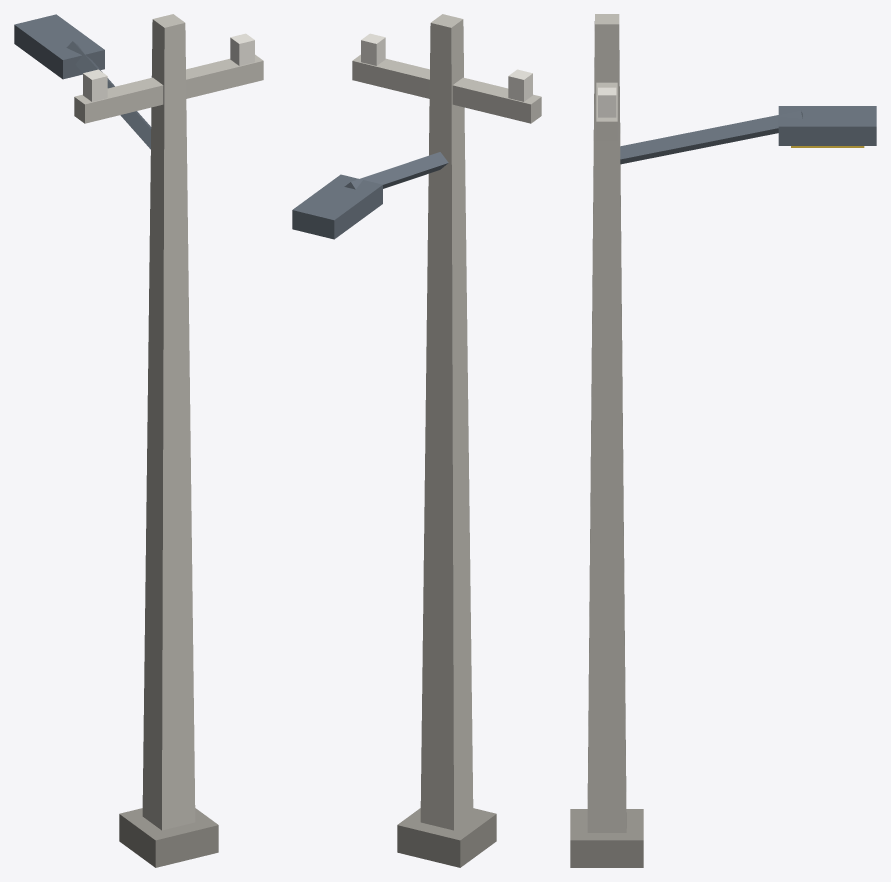
The model's file is poste_concreto.glb.
3 renders of one model, left to right at view 1: azimuth 30°, elevation 25°; view 2: azimuth 150°, elevation 25°; view 3: azimuth 270°, elevation 25°, orthographic.
Visible parts, largest first — view 1: corpo; view 2: corpo; view 3: corpo.
Boxes of the visible parts, x1,y1,x2,y2 form: corpo: [14, 14, 263, 867]; corpo: [292, 14, 541, 867]; corpo: [570, 14, 876, 867].
Bounding box in the file's own units: 0.34 × 1.5 × 0.5.
